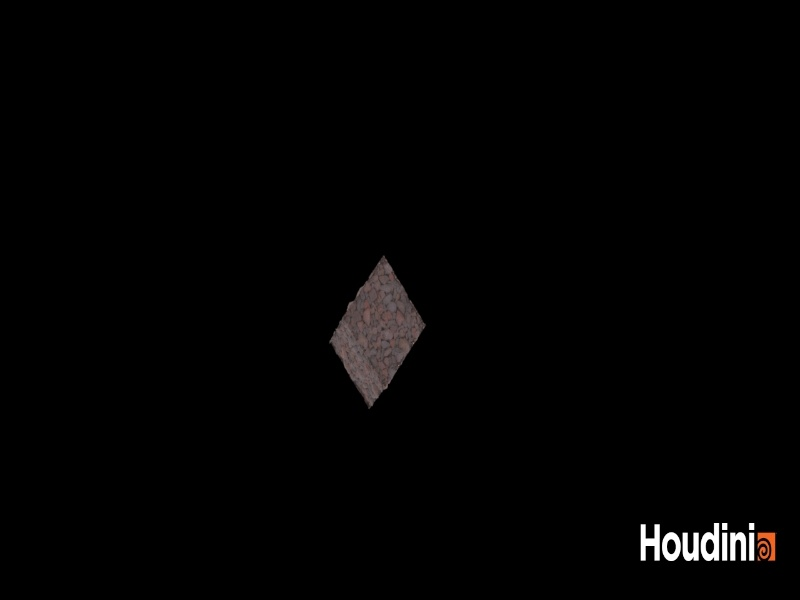waste: (321, 242, 449, 430)
